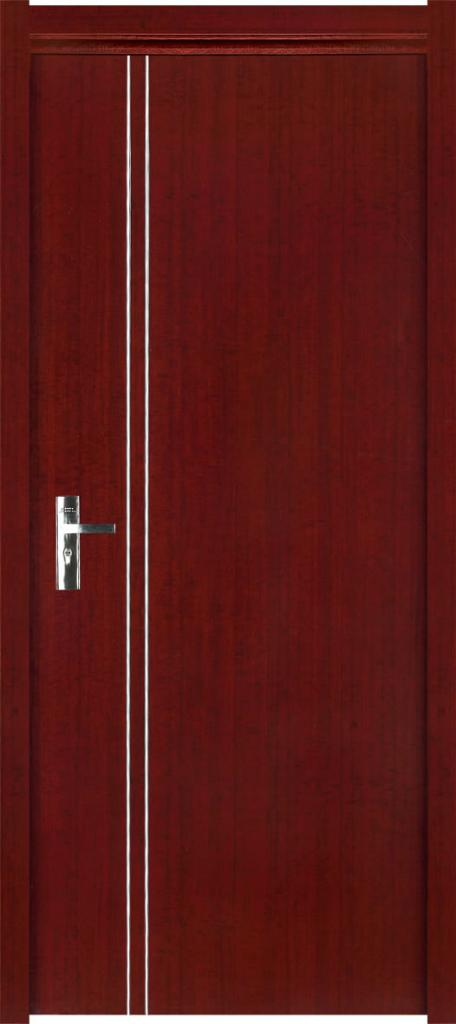door: (10, 12, 452, 1016)
